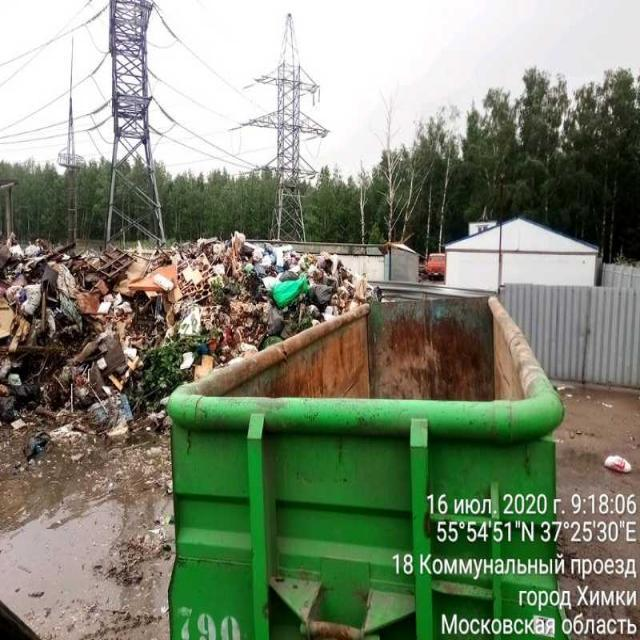Dumpster: (172, 296, 548, 636)
